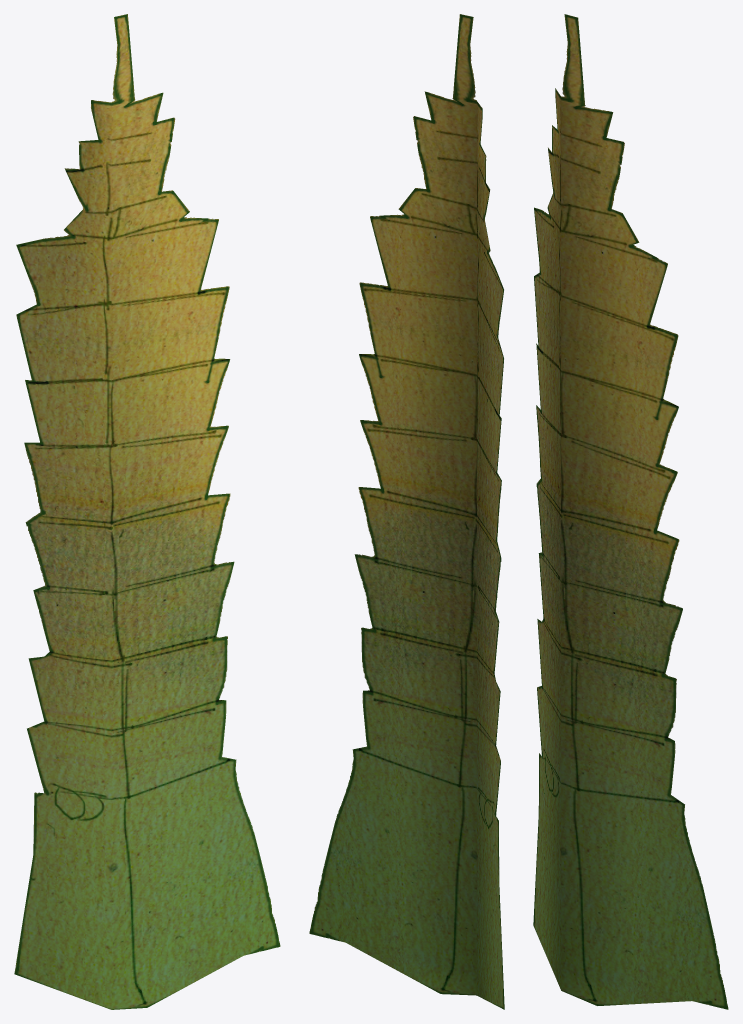
The picture shows the model from 3 angles, left to right: view 1: azimuth 30°, elevation 25°; view 2: azimuth 150°, elevation 25°; view 3: azimuth 330°, elevation 25°; orthographic projection.
Parts seen in each view (by area): view 1: 101; view 2: 101; view 3: 101.
Part boxes in pixels (left/top/right/bottom): 101: left=14, top=14, right=280, bottom=1009; 101: left=309, top=14, right=504, bottom=1009; 101: left=533, top=14, right=728, bottom=1009.
Bounding box in the file's own units: 22.78 × 93.63 × 5.85.
Materials: 1 (1 with a texture image).
